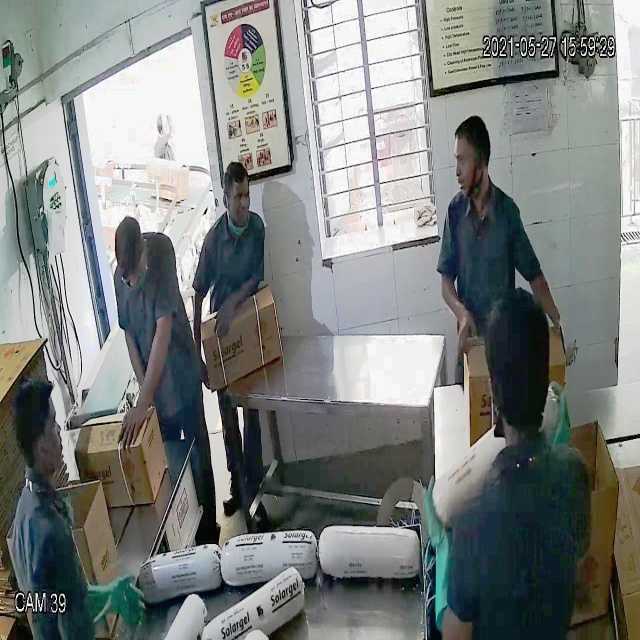Sin_gafas: (452, 149, 484, 174)
